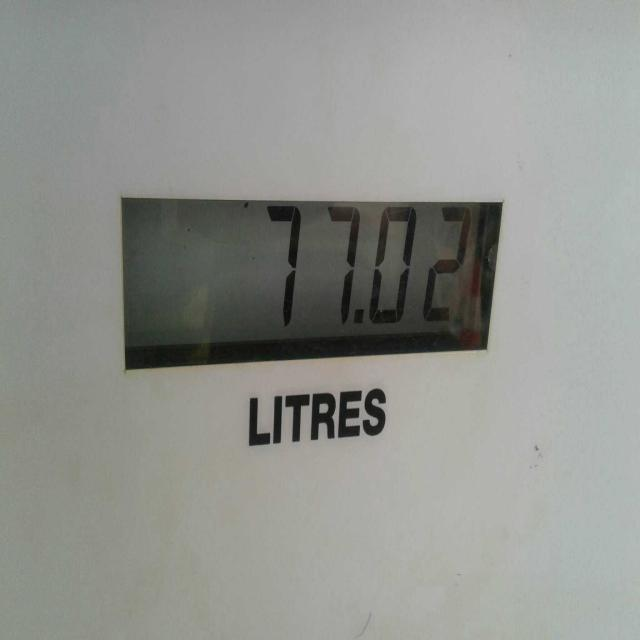.: (348, 290, 368, 340)
0: (370, 204, 419, 344)
2: (421, 207, 473, 336)
7: (246, 191, 307, 336), (318, 200, 364, 338)
